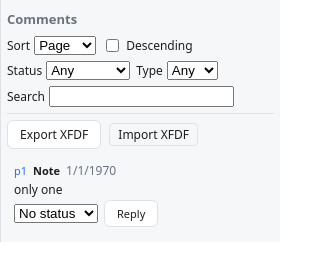
Test: CommentPane: filters (D-A11) › says so when nothing matches rather than showing an empty list
The image size is (320, 259).
Check: the text "only one" is shown, box [14,181,62,198]
Type "no such text" into the field labelled "Search".
click(142, 96); type("no such text")  # box [49,86,234,107]
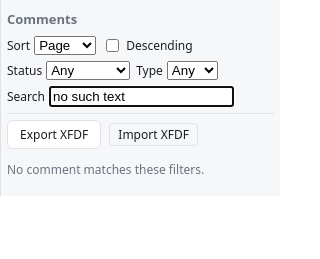
Check: the text "No comment matches these filters." is shown, box [7,161,204,178]
